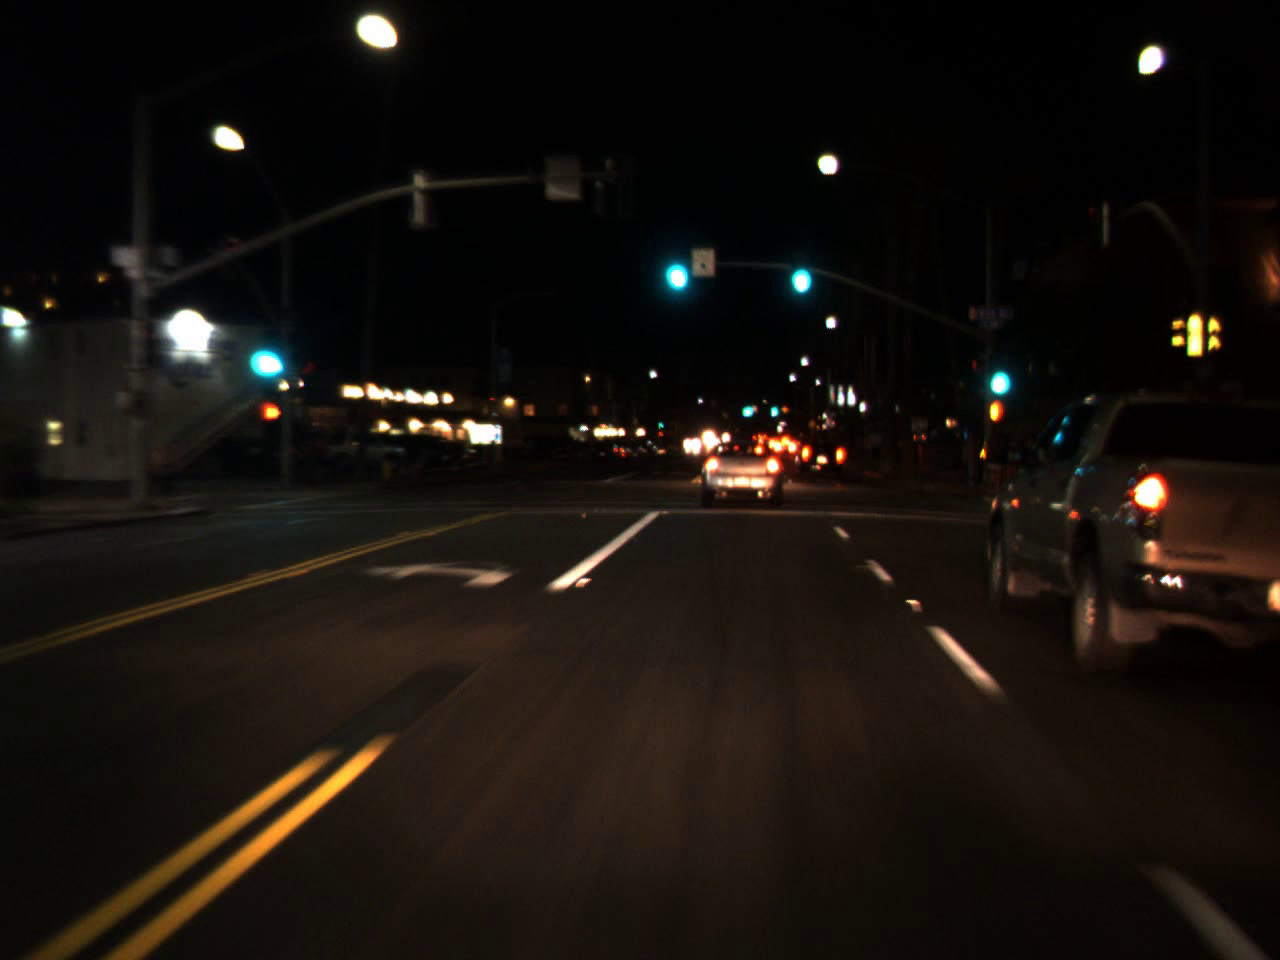go: (238, 312, 290, 390), (655, 229, 694, 301), (783, 237, 815, 303), (983, 341, 1015, 404), (739, 395, 753, 419), (769, 397, 779, 418), (657, 417, 664, 429)
